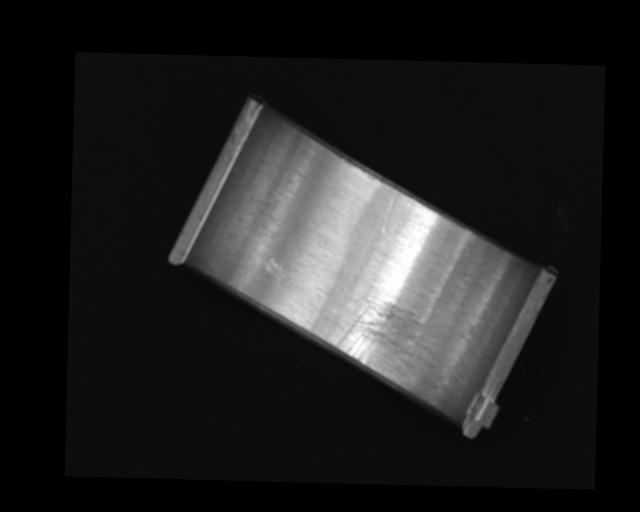bruise: (263, 256, 292, 281)
nick: (381, 193, 394, 233)
scratch: (334, 293, 431, 401)
